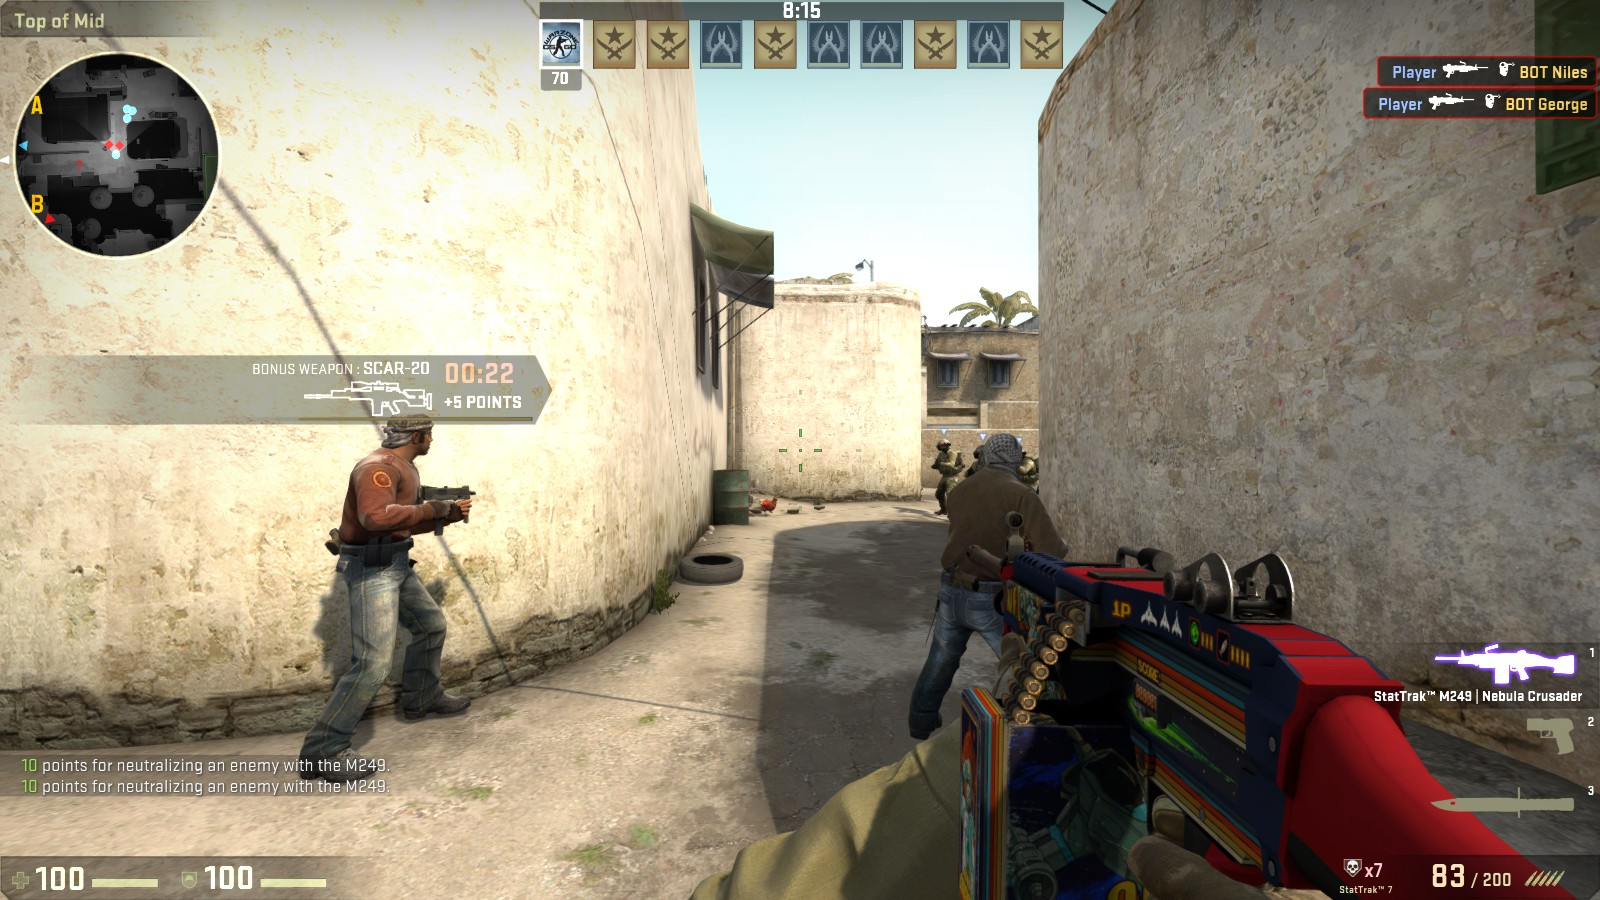t: (319, 408, 456, 760), (922, 429, 1035, 725)
th: (371, 404, 438, 465), (973, 432, 1030, 486)
